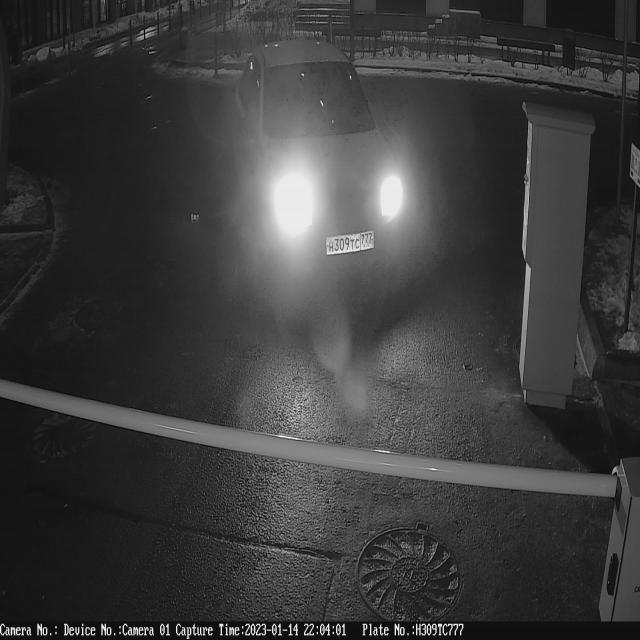car-plate-numbers: (322, 227, 384, 262)
